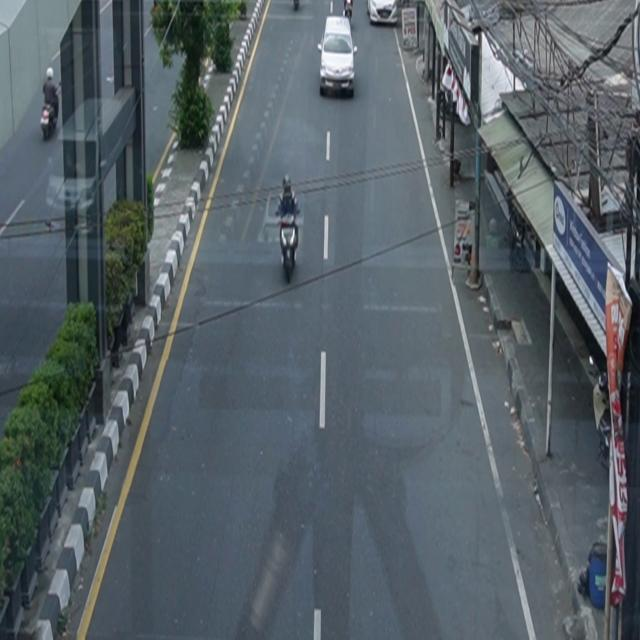car: (318, 15, 358, 98), (367, 1, 398, 26)
